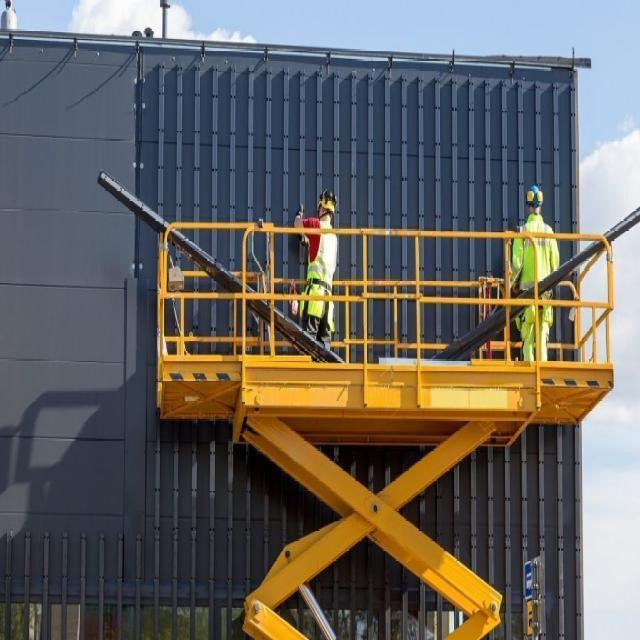Arnes_seguridad: (302, 274, 335, 333)
